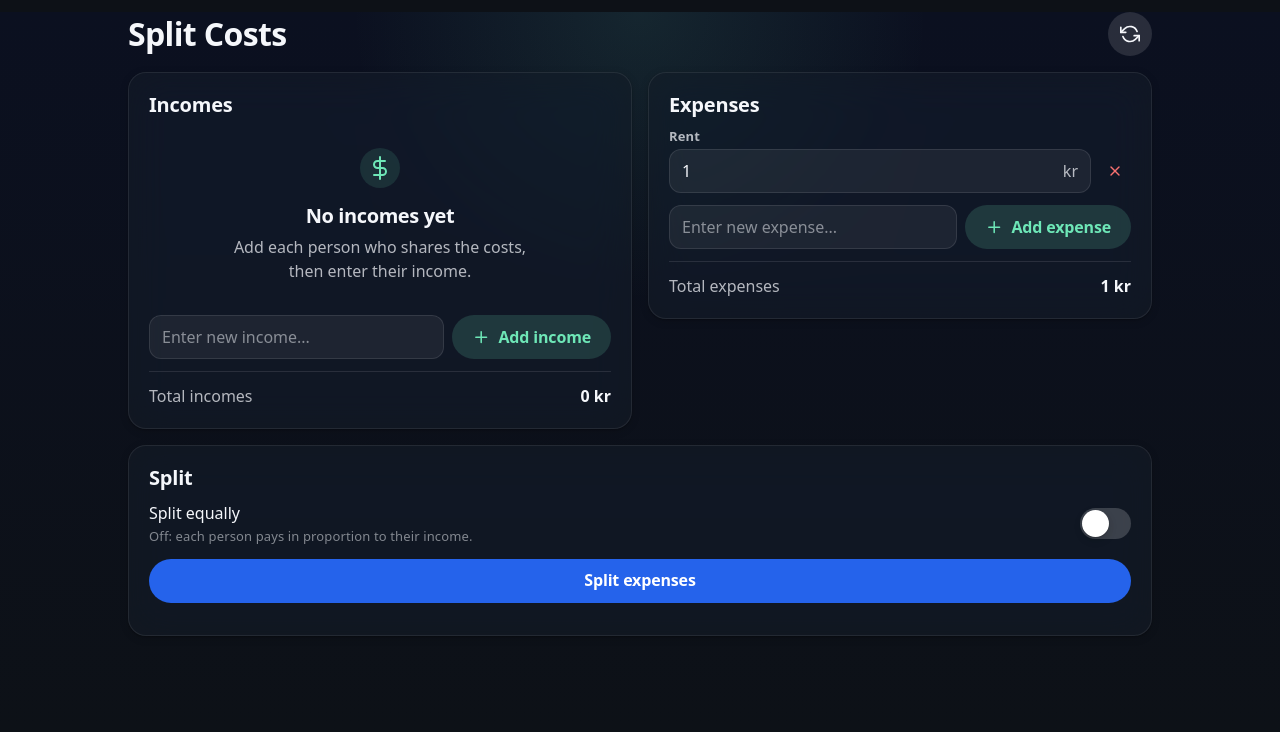
Test: CostCalculator › signed in › reports a failed save, keeps the local copy, and recovers on retry
The width and height of the screenshot is (1280, 732).
Replace the text in the number field named "Amount for Rent" with "2" at [868, 171], box [682,151,1055,191]
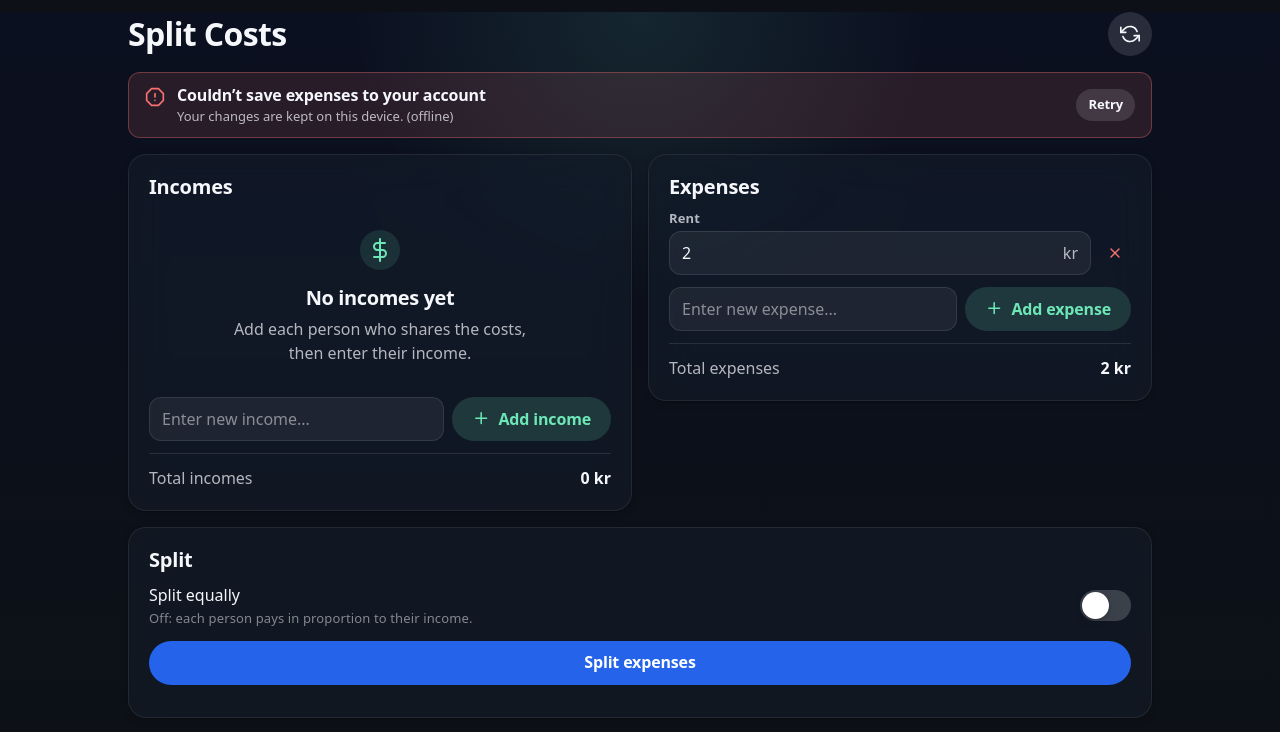
Expected: the message shows "Couldn’t save expenses to your account", [177,84,486,106]
Click the button "Retry" at [1106, 105], box [1076,89,1135,121]
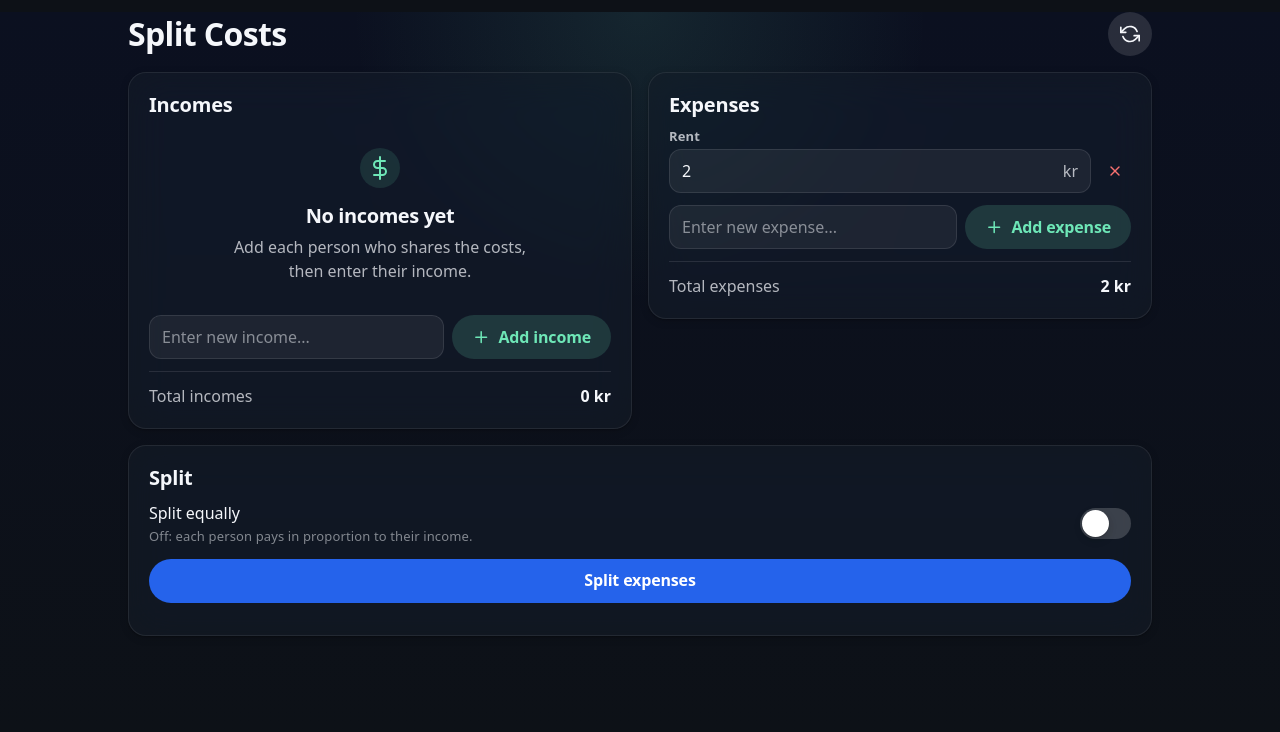
Expected: the message is gone
